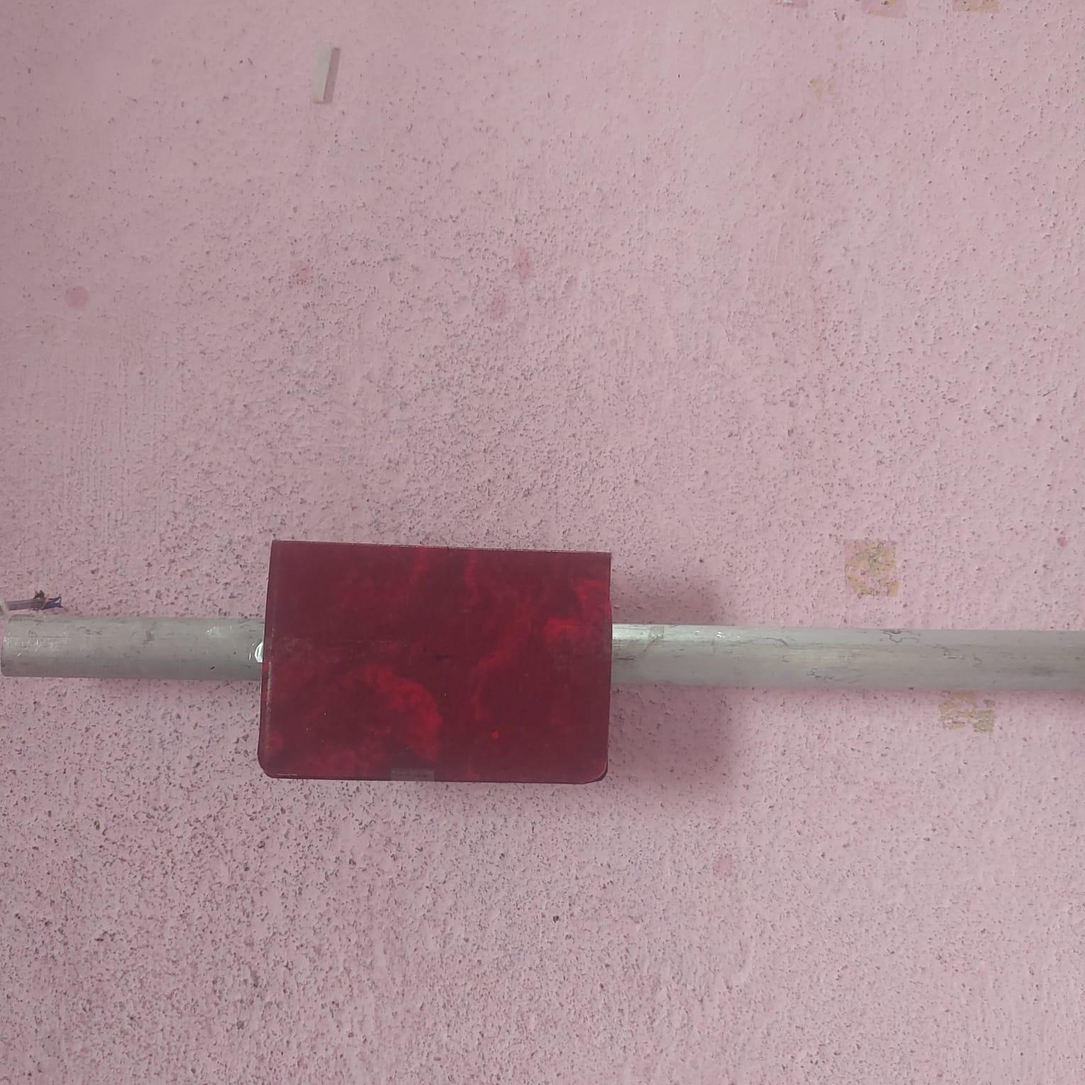wallet: (256, 533, 623, 784)
